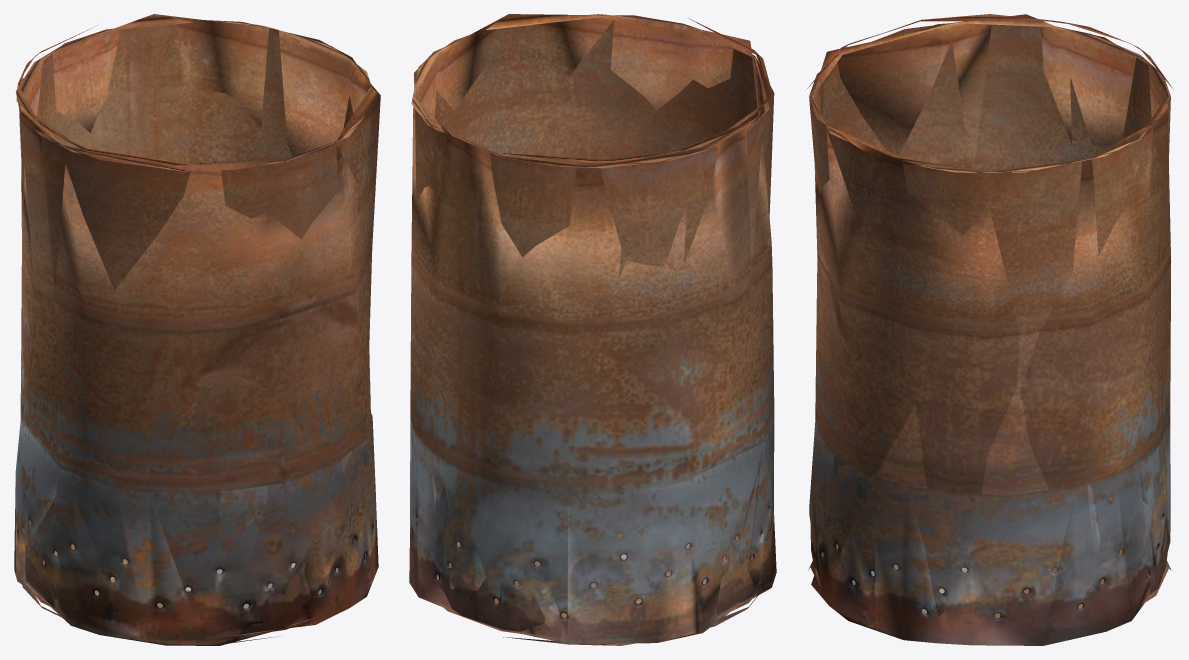
The model's file is barrel_stove.glb.
3 renders of one model, left to right at view 1: azimuth 30°, elevation 25°; view 2: azimuth 150°, elevation 25°; view 3: azimuth 270°, elevation 25°, orthographic.
Parts seen in each view (by area): view 1: barrel_stove; view 2: barrel_stove; view 3: barrel_stove.
Boxes of the visible parts, box(x1,y1,x2,y2) form: barrel_stove: box(14, 14, 380, 645); barrel_stove: box(409, 14, 776, 645); barrel_stove: box(807, 14, 1173, 645).
Size of the model in its own units: 0.5792 by 0.8539 by 0.5887.
Materials: 1 (1 with a texture image).
